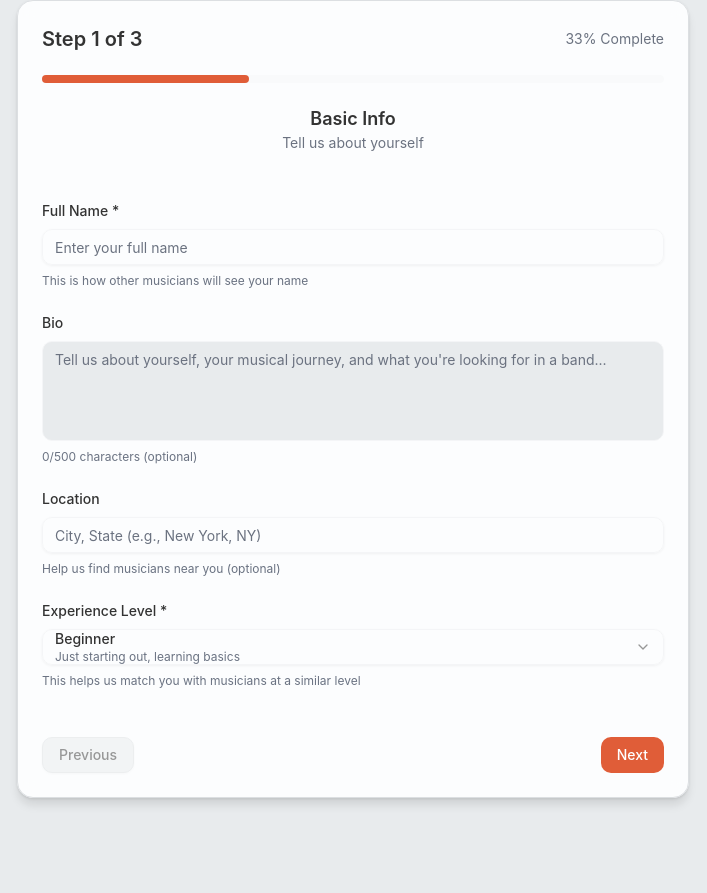
it: ProfileSetupWizard › validates required fields before proceeding
The image size is (707, 893).
Click the button "Next" at (632, 755), box [601,737,664,773]
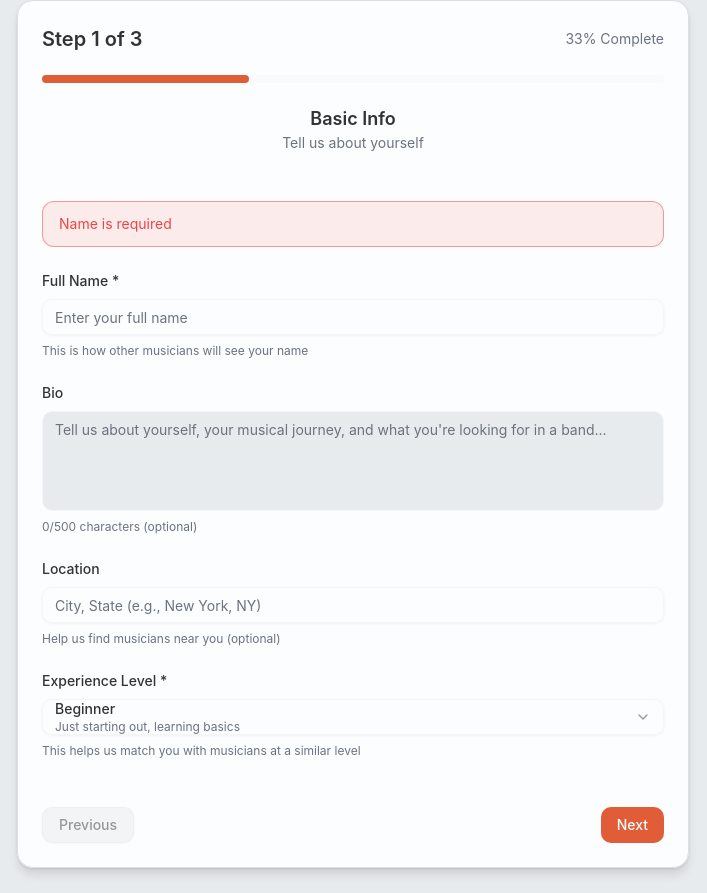
Result: the text "Name is required" is shown at [59,215,172,232]
